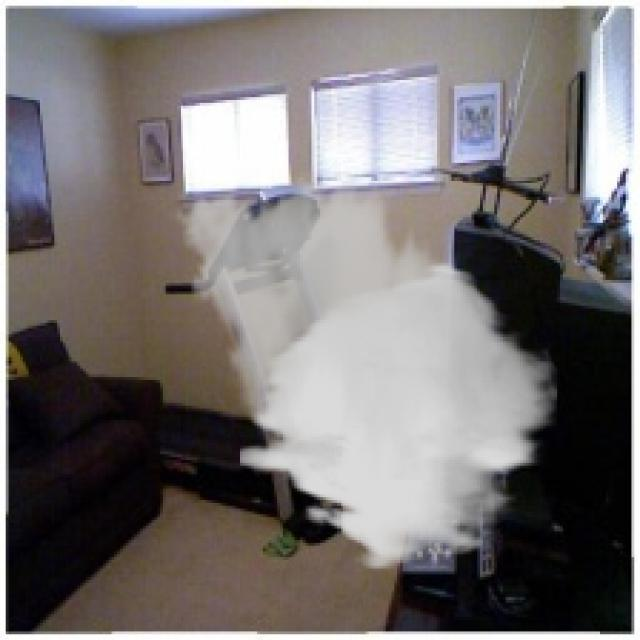Smoke: (165, 168, 558, 572)
